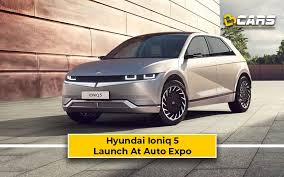Honda Ioniq: (57, 26, 255, 130)
